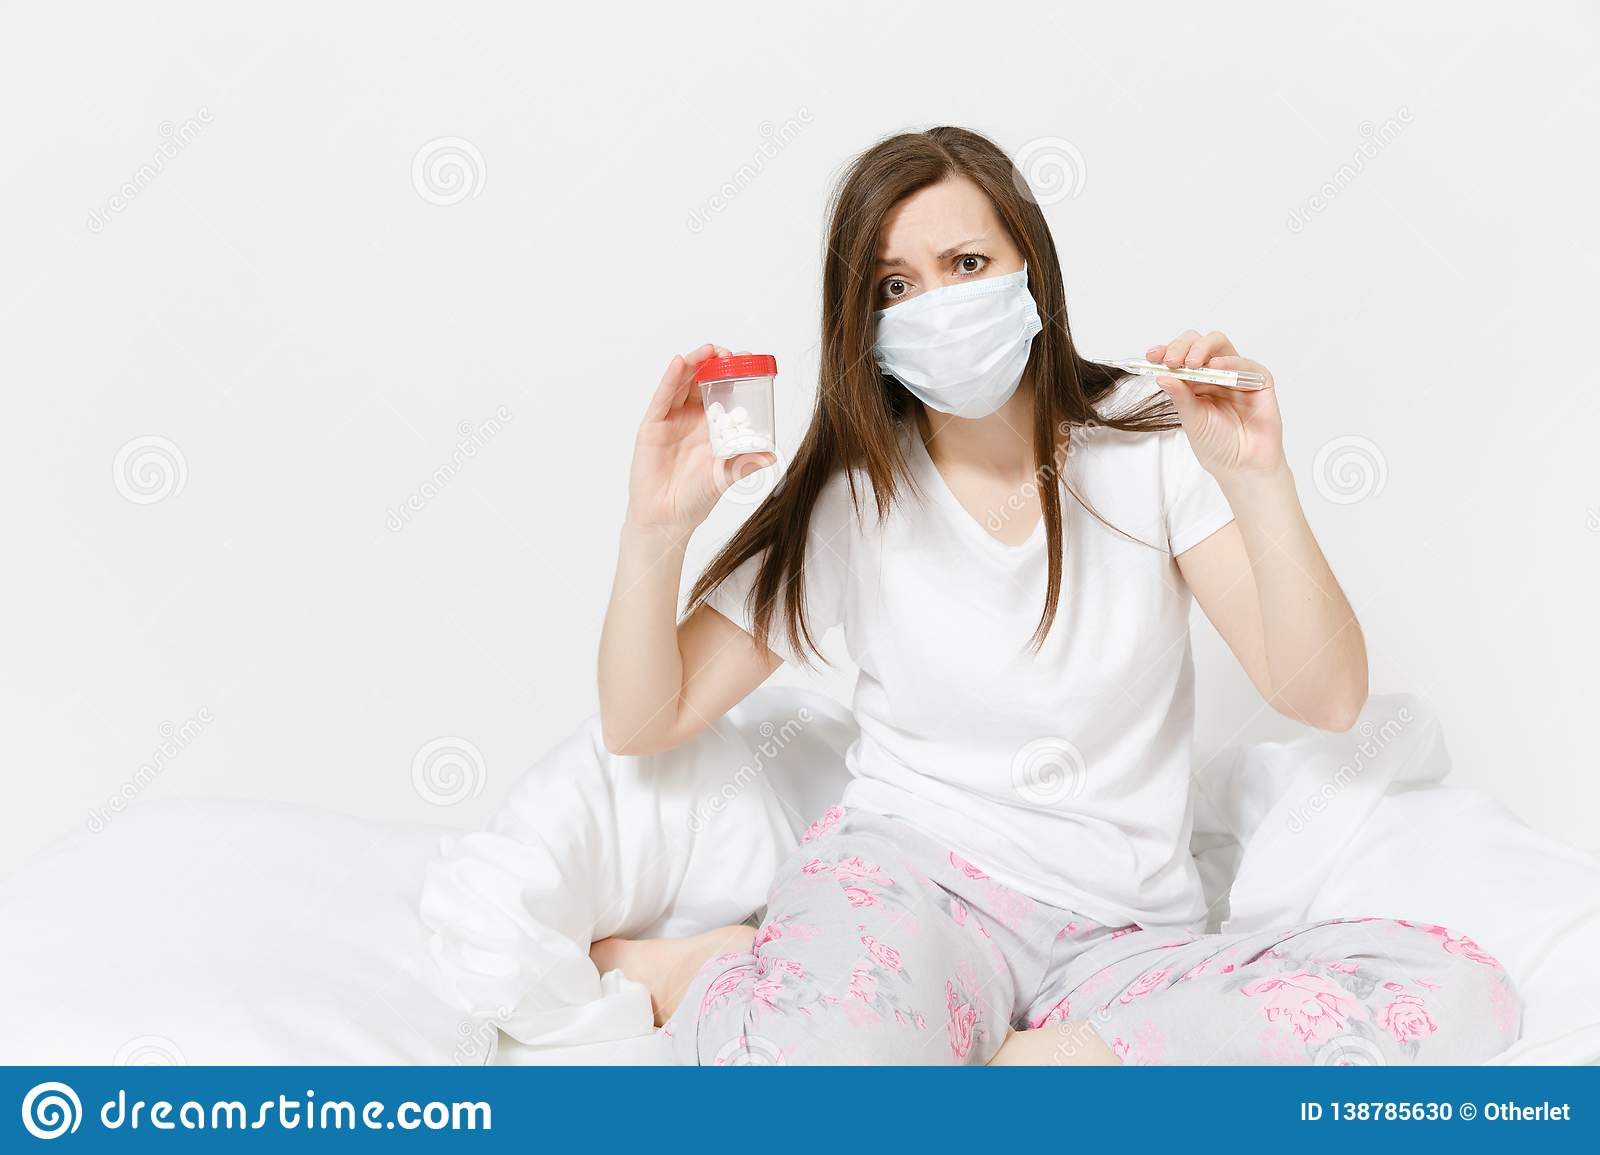mask: (875, 274, 1036, 419)
